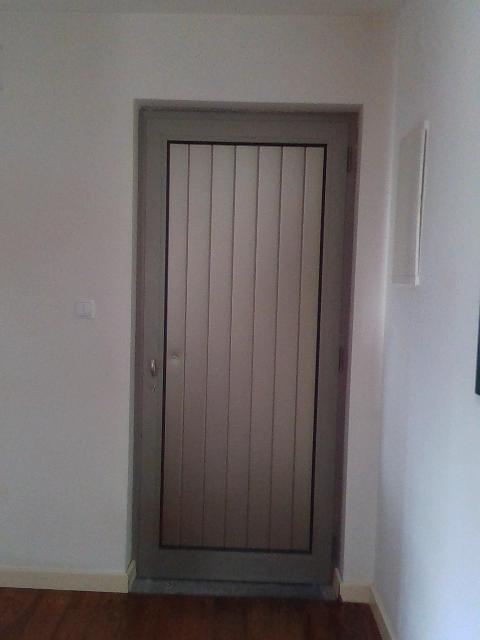door: (131, 93, 364, 608)
